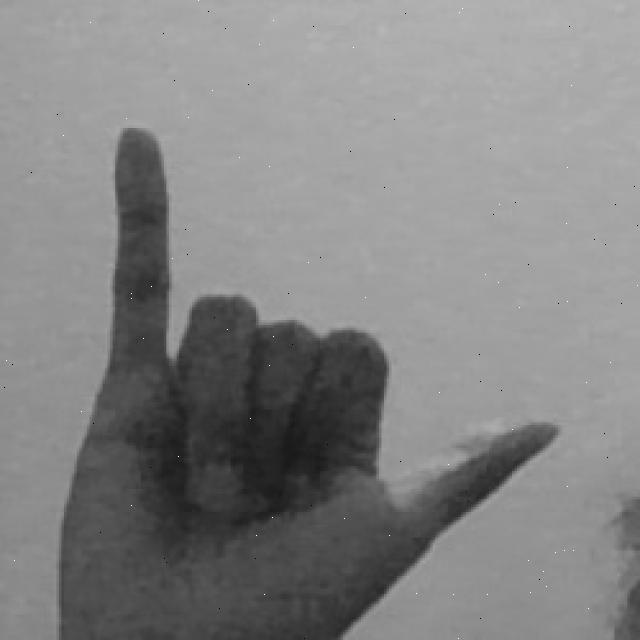Y: (48, 120, 566, 640)
